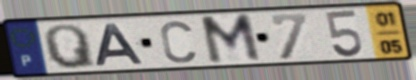5: (323, 8, 365, 58)
7: (268, 11, 312, 61)
A: (93, 22, 147, 68)
C: (158, 19, 199, 65)
M: (197, 12, 264, 66)
Q: (41, 22, 100, 71)
